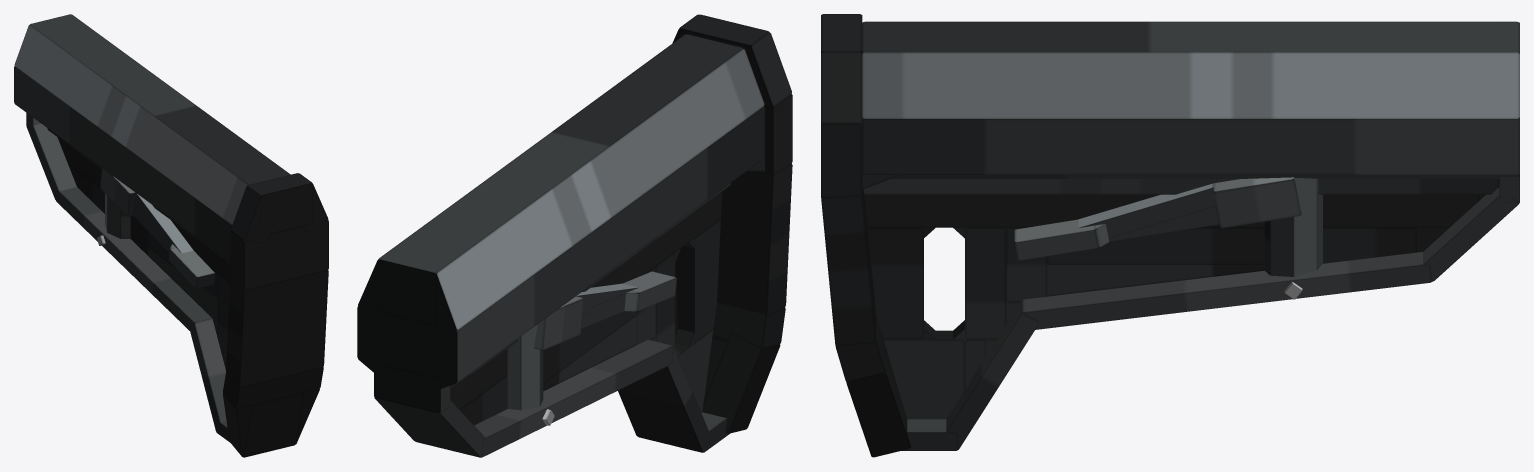
File: stock_moe_geo - Converted.fbx
The picture shows the model from 3 angles, left to right: view 1: azimuth 30°, elevation 25°; view 2: azimuth 150°, elevation 25°; view 3: azimuth 270°, elevation 25°; orthographic projection. The views are drawn at different scales.
Visible parts, largest first — view 1: stock_moe; view 2: stock_moe; view 3: stock_moe.
Boxes of the visible parts, bbox=[...] form: stock_moe: bbox=[14, 14, 328, 457]; stock_moe: bbox=[357, 14, 792, 457]; stock_moe: bbox=[821, 14, 1519, 457].
Bounding box in the file's own units: 12.03 × 37.47 × 58.44.
